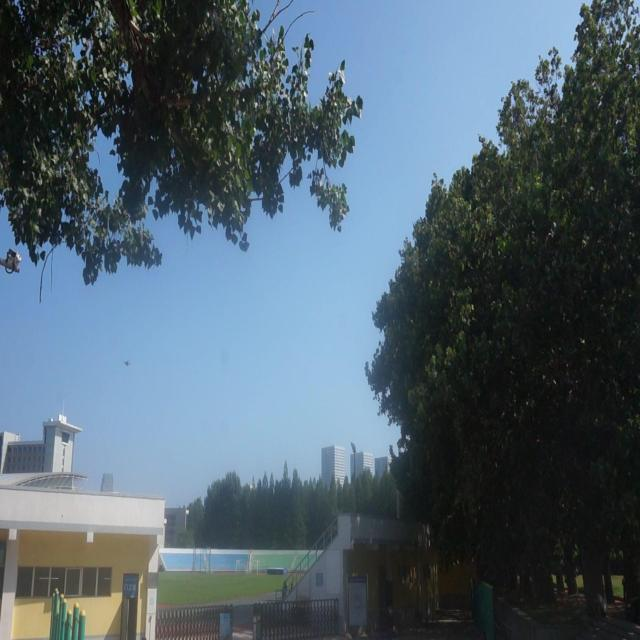drone: (120, 354, 134, 372)
